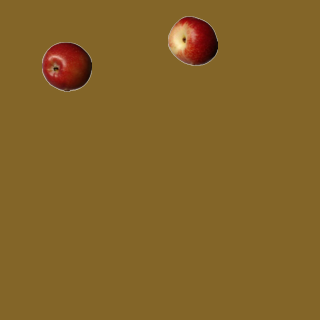Apple Braeburn: (41, 41, 91, 91)
Nectarine: (167, 15, 217, 65)
